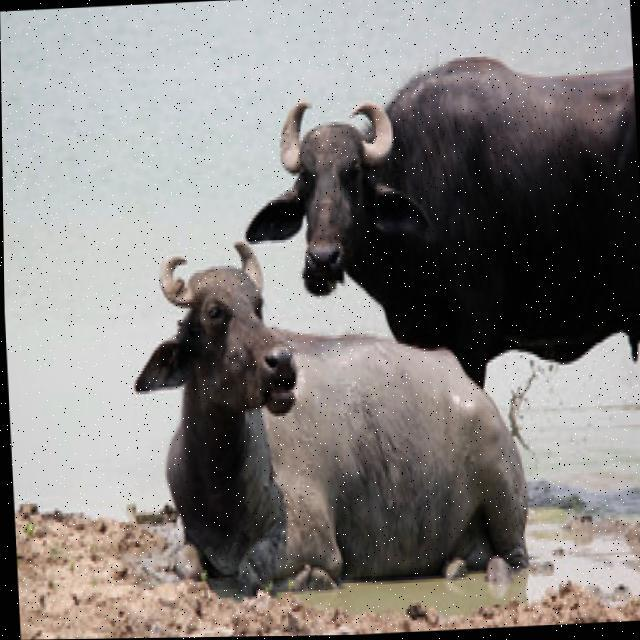Buffalo: (131, 238, 333, 585)
